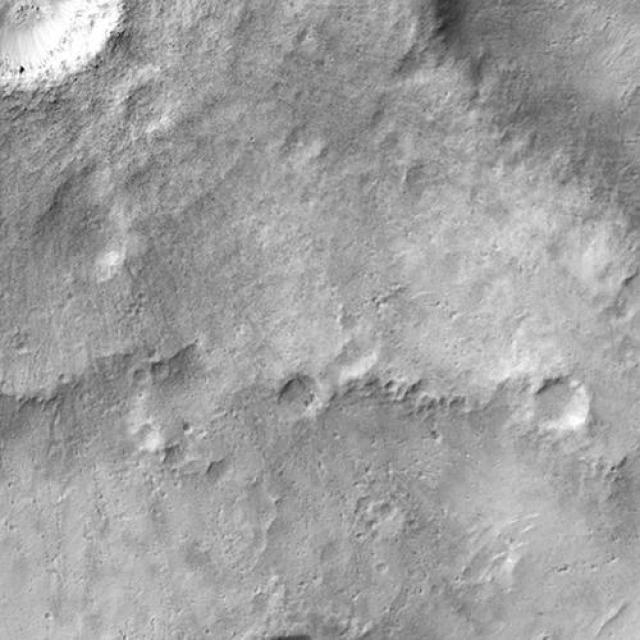crater: (0, 0, 138, 113), (245, 362, 343, 442), (525, 368, 599, 442)
